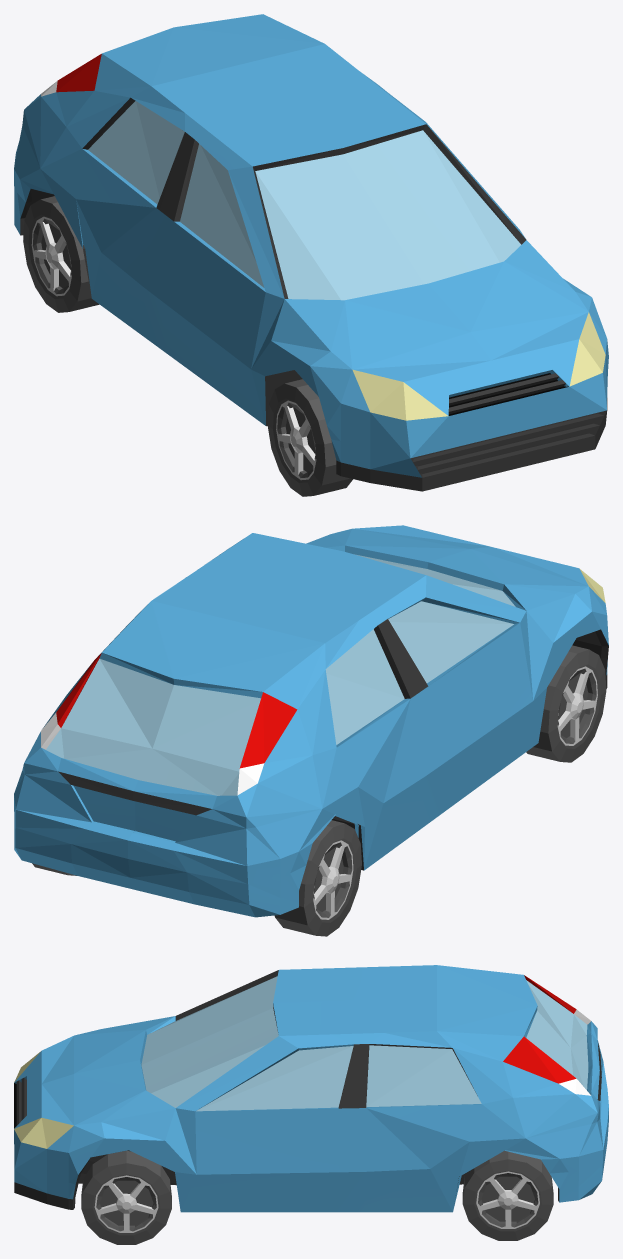
File: car1.fbx
The picture shows the model from 3 angles, top to bottom: view 1: azimuth 30°, elevation 25°; view 2: azimuth 150°, elevation 25°; view 3: azimuth 270°, elevation 25°; orthographic projection. The views are drawn at different scales.
Parts seen in each view (by area): view 1: Body; view 2: Body; view 3: Body.
Boxes of the visible parts, x1,y1,x2,y2 form: Body: [14, 14, 608, 496]; Body: [14, 525, 608, 936]; Body: [14, 965, 608, 1244].
Bounding box in the file's own units: 102 × 84.68 × 236.
